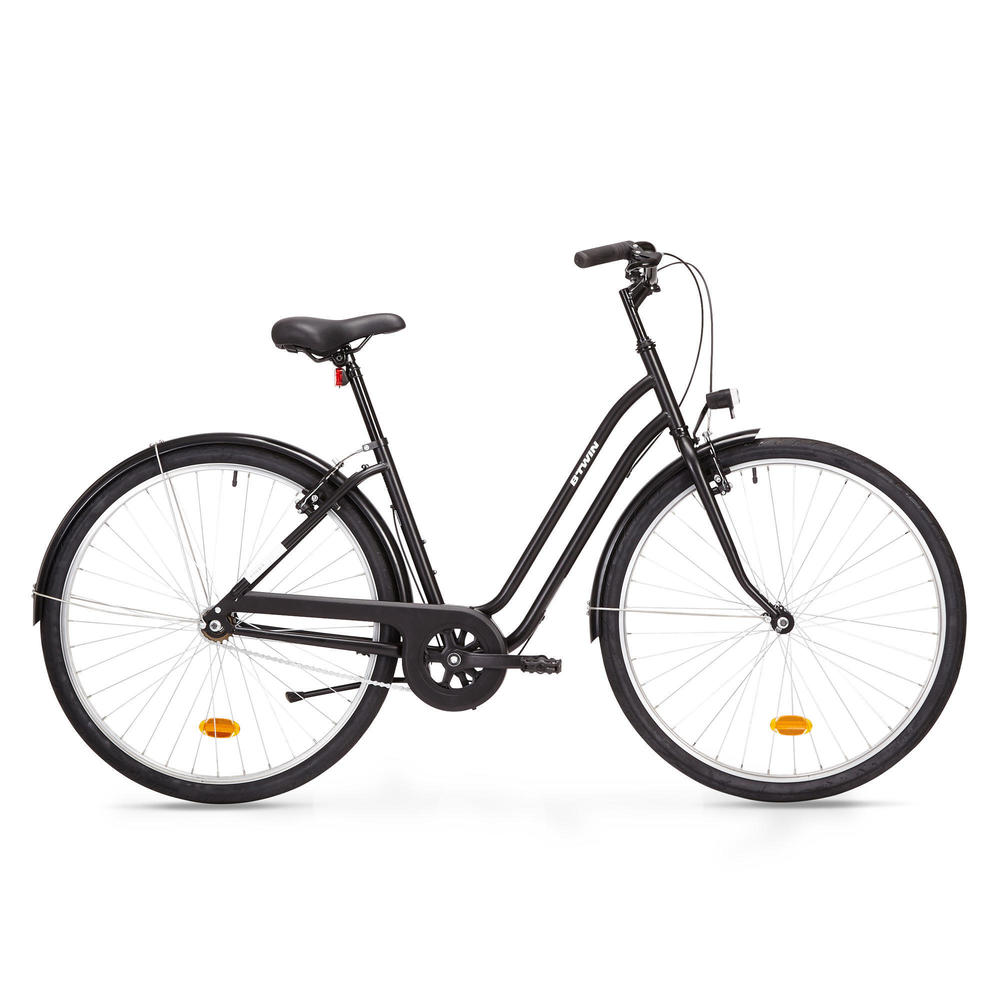UrbanBike: (34, 224, 962, 800)
